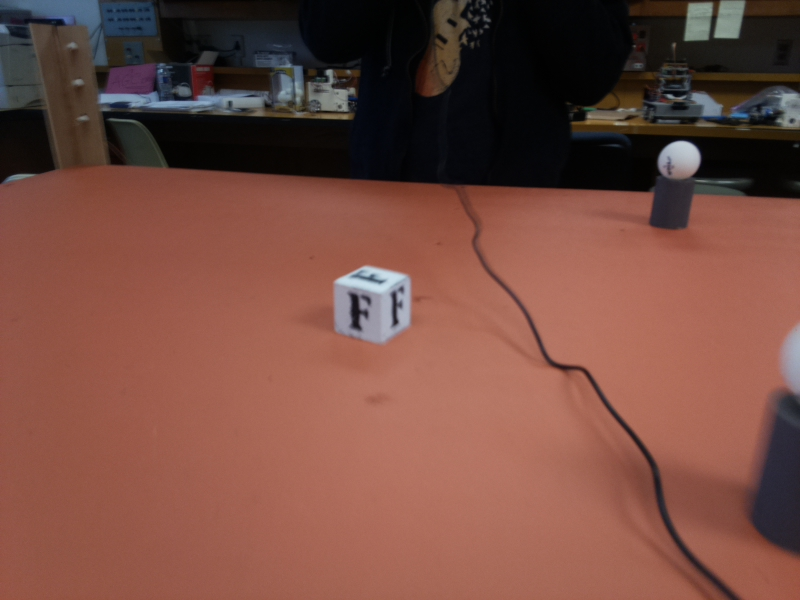blockF: (333, 264, 414, 343)
corner: (47, 21, 95, 170)
obstacle: (758, 321, 800, 530), (654, 137, 701, 233)
